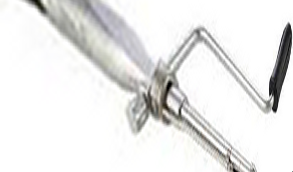screwdriver: (38, 1, 281, 172)
